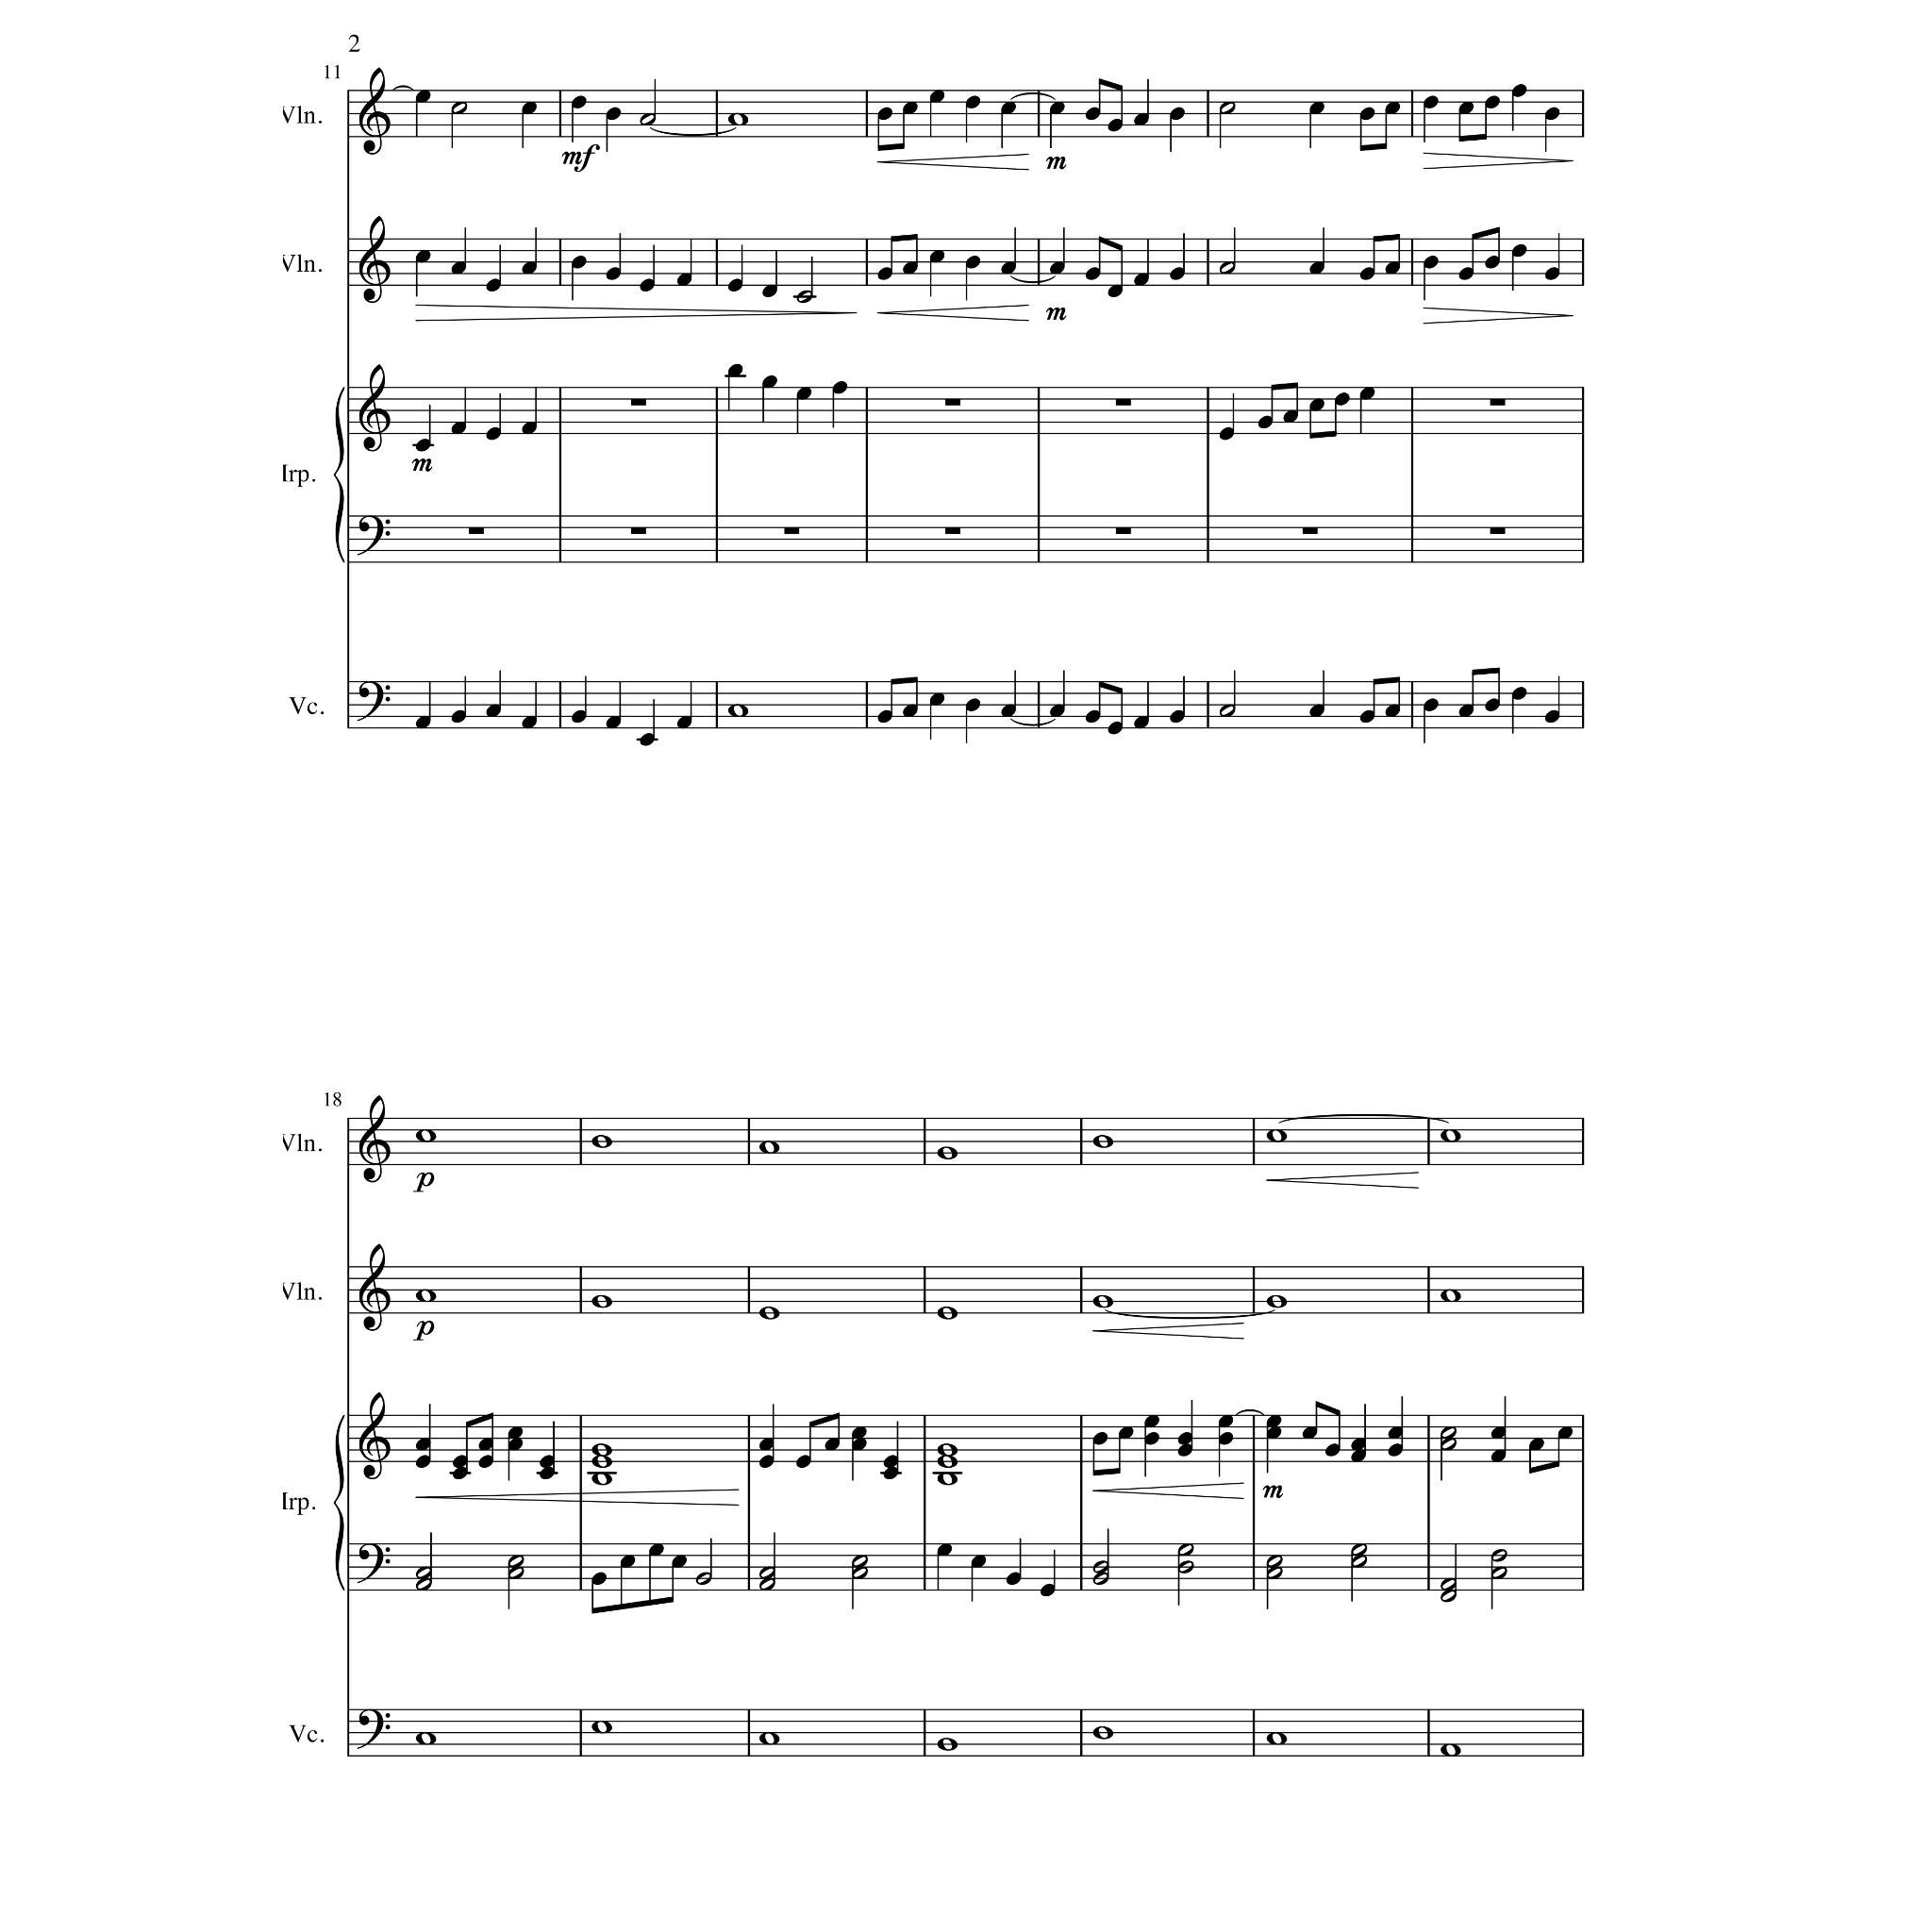brace: (333, 387, 345, 564), (333, 1415, 345, 1591)
fClef: (357, 515, 391, 556), (357, 681, 391, 722), (357, 1543, 391, 1583), (357, 1709, 391, 1750)
gClef: (359, 1391, 391, 1481), (359, 67, 391, 156), (359, 216, 391, 304), (359, 364, 391, 453), (359, 1095, 391, 1184), (359, 1244, 391, 1332)
noteheadBlack: (1256, 416, 1274, 430), (1384, 101, 1401, 115), (1384, 260, 1401, 274), (1384, 704, 1401, 718), (1000, 704, 1017, 718), (1000, 260, 1017, 274), (1000, 101, 1017, 115), (1283, 410, 1299, 425), (1309, 101, 1325, 115), (1309, 260, 1325, 274), (1309, 704, 1325, 718), (1085, 267, 1100, 281), (1169, 267, 1185, 281), (1108, 119, 1123, 133), (1134, 272, 1150, 287), (1134, 715, 1150, 729), (1511, 83, 1527, 97), (1511, 244, 1527, 258), (1511, 686, 1527, 701), (1545, 267, 1560, 281), (1484, 255, 1500, 269), (1484, 96, 1500, 110), (1422, 96, 1438, 110), (1422, 255, 1438, 269), (1359, 267, 1375, 281), (1458, 101, 1474, 115), (1458, 267, 1474, 281), (1458, 704, 1474, 718), (571, 255, 587, 269), (571, 96, 587, 110), (522, 101, 538, 115), (522, 260, 538, 274), (522, 421, 538, 435), (522, 715, 538, 729), (639, 732, 655, 747), (676, 715, 692, 729), (605, 267, 621, 281), (605, 715, 621, 729), (485, 704, 501, 718), (414, 90, 430, 104), (414, 249, 430, 264), (414, 715, 430, 729), (676, 272, 692, 287), (451, 260, 467, 274), (451, 421, 467, 435), (902, 101, 918, 115), (902, 260, 918, 274), (902, 704, 918, 718), (964, 96, 980, 110), (964, 255, 980, 269), (929, 90, 945, 104), (929, 249, 945, 264), (1049, 260, 1065, 274), (1049, 101, 1065, 115), (1049, 704, 1065, 718), (832, 380, 847, 395), (878, 267, 893, 281), (763, 375, 778, 389), (1217, 1431, 1233, 1445), (1177, 1431, 1192, 1445), (1265, 1426, 1281, 1440), (1092, 1431, 1108, 1445), (1040, 1583, 1056, 1598), (1118, 1426, 1134, 1440), (1145, 1431, 1161, 1445), (1557, 1426, 1573, 1440), (1490, 1449, 1506, 1463), (1490, 1426, 1506, 1440), (1350, 1449, 1366, 1463), (1387, 1426, 1403, 1440), (1302, 1426, 1318, 1440), (540, 1467, 556, 1481), (540, 1454, 556, 1468), (508, 1426, 524, 1440), (478, 1454, 494, 1468), (451, 1467, 467, 1481), (451, 1454, 467, 1468), (414, 1454, 430, 1468), (851, 1426, 867, 1440), (883, 1467, 899, 1481), (883, 1454, 899, 1468), (796, 1454, 812, 1468), (936, 1543, 952, 1557), (648, 1543, 663, 1557), (759, 1454, 773, 1468), (1219, 428, 1235, 441), (1334, 393, 1350, 405), (1309, 400, 1325, 412), (1085, 108, 1100, 120), (1085, 711, 1100, 724), (1169, 108, 1185, 120), (1169, 711, 1185, 724), (1108, 285, 1123, 297), (1108, 722, 1123, 734), (1134, 113, 1150, 126), (1545, 108, 1560, 120), (1545, 711, 1560, 724), (1484, 699, 1500, 711), (1422, 699, 1438, 711), (1359, 108, 1375, 120), (1359, 387, 1375, 400), (1359, 711, 1375, 724), (571, 711, 587, 724), (639, 280, 655, 292), (605, 108, 621, 120), (451, 711, 467, 724), (485, 280, 501, 292), (485, 428, 501, 441), (414, 439, 430, 451), (964, 699, 980, 711), (929, 694, 945, 706), (878, 711, 893, 724), (727, 280, 743, 292), (727, 364, 743, 377), (796, 387, 812, 400), (878, 108, 893, 120), (763, 285, 778, 297), (1145, 1415, 1161, 1428), (1217, 1415, 1233, 1428), (1177, 1444, 1192, 1456), (1265, 1415, 1281, 1428), (970, 1555, 985, 1568), (1005, 1573, 1021, 1585), (1529, 1438, 1545, 1451), (1323, 1444, 1339, 1456), (1350, 1438, 1366, 1451), (1387, 1444, 1403, 1456), (591, 1573, 607, 1585), (478, 1438, 494, 1451), (508, 1438, 524, 1451), (619, 1555, 635, 1568), (414, 1438, 430, 1451), (851, 1438, 867, 1451), (824, 1438, 840, 1451), (671, 1555, 686, 1568), (759, 1438, 773, 1451)
noteheadHalf: (796, 290, 814, 304), (1177, 1543, 1194, 1557), (1490, 1566, 1507, 1580), (1350, 1543, 1368, 1557), (851, 1566, 869, 1580), (1219, 260, 1235, 274), (1219, 704, 1235, 718), (1267, 1566, 1283, 1580), (1440, 1426, 1456, 1440), (1440, 1589, 1456, 1603), (508, 1566, 524, 1580), (416, 1566, 432, 1580), (759, 1566, 775, 1580), (639, 113, 656, 126), (1177, 1560, 1194, 1573), (1092, 1573, 1109, 1585), (1092, 1560, 1109, 1573), (1490, 1550, 1507, 1562), (1350, 1555, 1368, 1568), (851, 1555, 869, 1568), (695, 1573, 713, 1585), (1219, 103, 1235, 115), (451, 103, 467, 115), (1267, 1555, 1283, 1568), (1440, 1578, 1456, 1591), (1440, 1438, 1456, 1451), (508, 1555, 524, 1568), (416, 1578, 432, 1591), (759, 1578, 775, 1591)
noteheadWhole: (1265, 1129, 1288, 1143), (1265, 1295, 1288, 1309), (1438, 1129, 1461, 1143), (1438, 1290, 1461, 1304), (1438, 1743, 1461, 1757), (414, 1129, 437, 1143), (414, 1290, 437, 1304), (727, 113, 748, 127), (727, 704, 748, 718), (1092, 1134, 1113, 1148), (1092, 1295, 1113, 1309), (1092, 1725, 1113, 1739), (591, 1134, 612, 1148), (591, 1295, 612, 1309), (591, 1472, 612, 1486), (591, 1454, 612, 1468), (936, 1146, 957, 1161), (936, 1306, 957, 1320), (936, 1472, 957, 1486), (936, 1454, 957, 1468), (936, 1737, 957, 1752), (759, 1306, 780, 1320), (759, 1139, 780, 1154), (1265, 1732, 1288, 1744), (414, 1732, 437, 1744), (591, 1444, 612, 1456), (591, 1721, 612, 1734), (936, 1444, 957, 1456), (759, 1732, 780, 1744)
restWhole: (784, 527, 800, 534), (630, 527, 646, 534), (630, 400, 646, 407), (1302, 527, 1318, 534), (1116, 527, 1132, 534), (1116, 400, 1132, 407), (945, 400, 961, 407), (945, 527, 961, 534), (467, 527, 483, 534), (1490, 400, 1506, 407), (1490, 527, 1506, 534)
